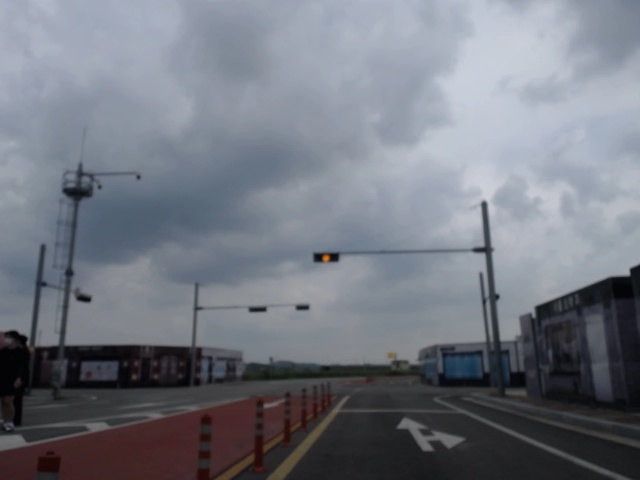orange_3: (313, 253, 338, 263)
